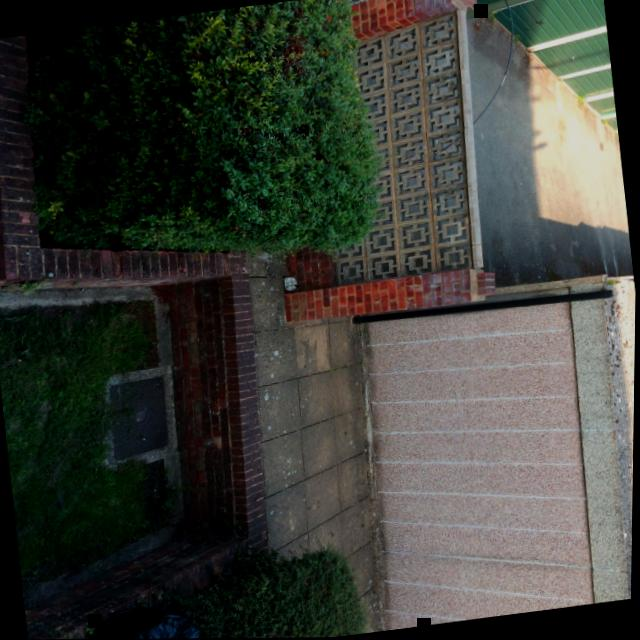Egg carton: (284, 276, 297, 289)
Garbage bag: (94, 605, 205, 639)
